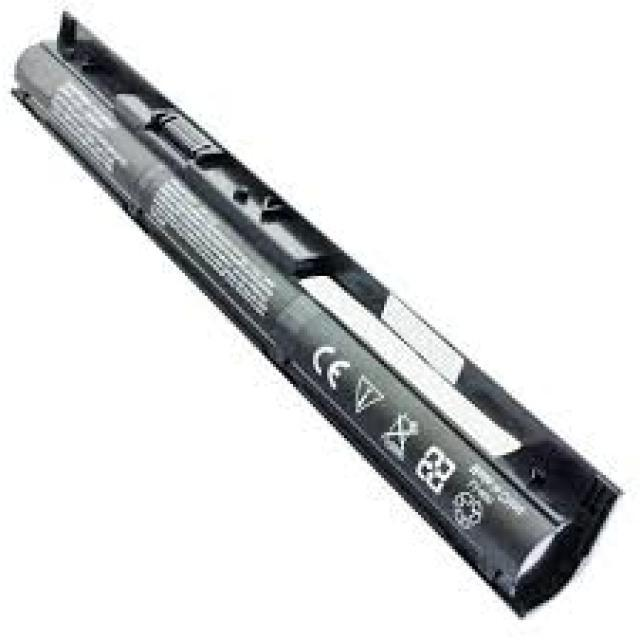battery: (10, 12, 624, 622)
